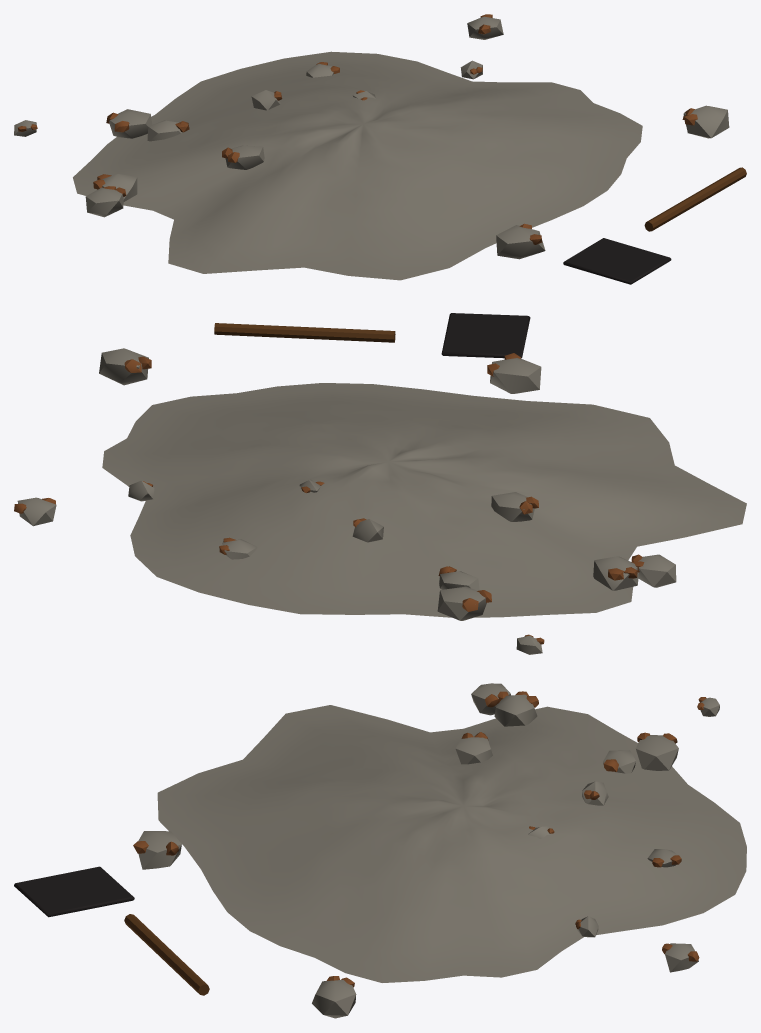
The model's file is erzhaufen_kaputt.glb.
The picture shows the model from 3 angles, top to bottom: view 1: azimuth 30°, elevation 25°; view 2: azimuth 150°, elevation 25°; view 3: azimuth 270°, elevation 25°; orthographic projection. The views are drawn at different scales.
Visible parts, largest first — view 1: erzhaufen_kaputt; view 2: erzhaufen_kaputt; view 3: erzhaufen_kaputt.
Part boxes in pixels (left/top/right/bottom): erzhaufen_kaputt: left=14, top=14, right=746, bottom=284; erzhaufen_kaputt: left=14, top=313, right=746, bottom=654; erzhaufen_kaputt: left=14, top=683, right=746, bottom=1018.
Size of the model in its own units: 2.05 by 0.1589 by 1.98.
